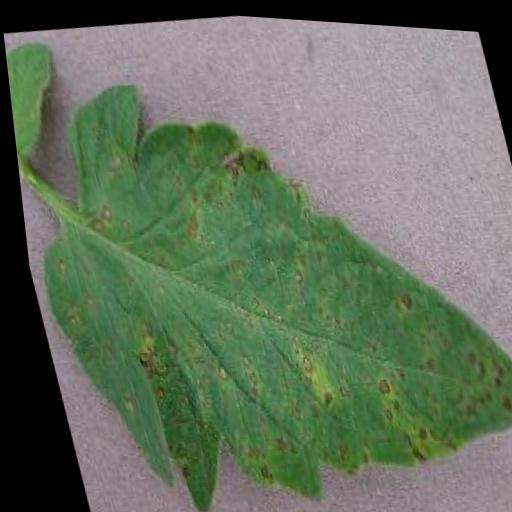Septoria: (2, 26, 512, 512)
